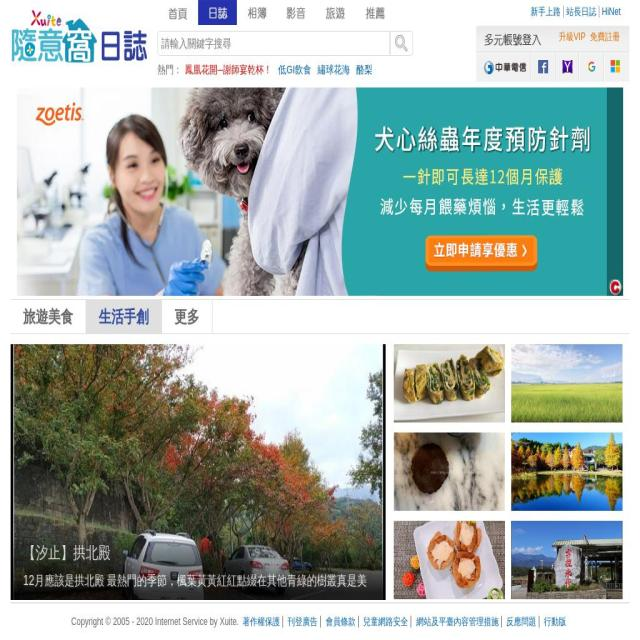button: (11, 344, 386, 600), (10, 300, 86, 333), (86, 300, 162, 333), (162, 300, 212, 333), (482, 53, 530, 81), (158, 0, 198, 25), (198, 0, 238, 25), (237, 0, 277, 25), (316, 0, 356, 25), (277, 0, 316, 25), (532, 53, 554, 81), (556, 53, 578, 81), (580, 53, 602, 81), (604, 53, 626, 81), (390, 31, 413, 56)
field: (158, 31, 390, 56)
heading: (11, 4, 148, 76), (34, 616, 74, 636)
iframe: (17, 87, 623, 296)
image: (11, 344, 386, 600), (394, 344, 505, 423), (394, 432, 505, 511), (512, 344, 622, 423), (512, 432, 622, 511), (394, 521, 505, 599), (512, 521, 622, 599), (394, 609, 505, 640), (512, 609, 622, 640)
link: (185, 63, 272, 76), (416, 616, 498, 627), (363, 616, 409, 627), (278, 63, 312, 76), (317, 63, 350, 76), (242, 616, 280, 627), (530, 6, 561, 17), (325, 616, 356, 627), (566, 6, 596, 17), (590, 31, 620, 42), (288, 616, 318, 627), (506, 616, 536, 627), (558, 31, 586, 42), (544, 616, 567, 627), (601, 6, 621, 17), (356, 63, 372, 76)
text: (23, 572, 373, 588), (70, 614, 240, 629), (356, 0, 422, 25), (23, 545, 111, 562), (157, 62, 182, 78)
